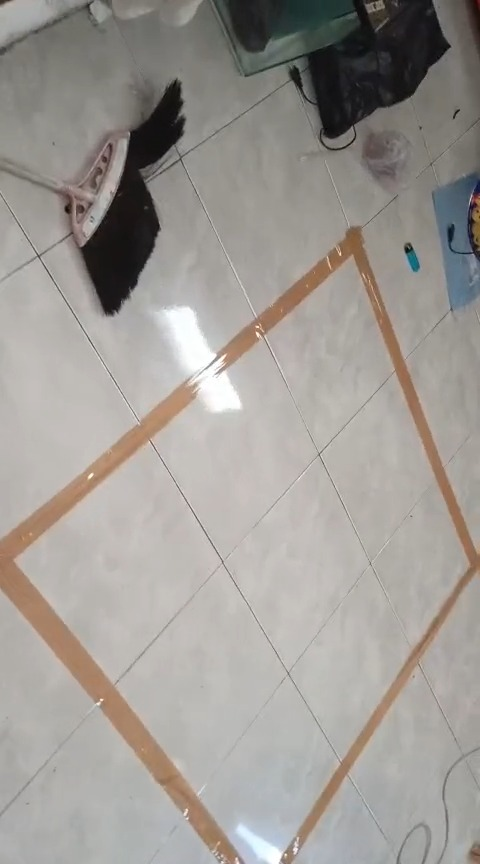floor marking: (0, 228, 479, 863)
